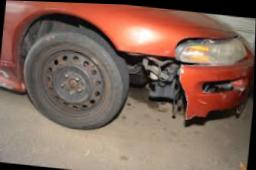Bumper: (124, 53, 255, 119)
Light: (172, 35, 252, 64)
